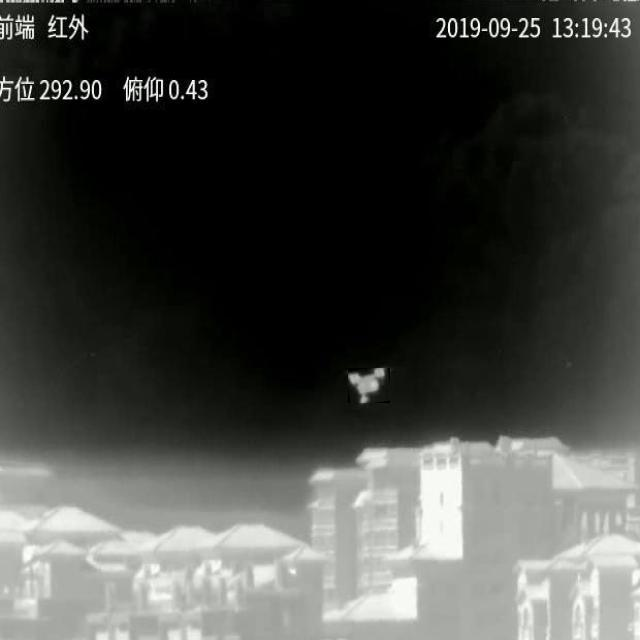drone: (348, 368, 387, 403)
